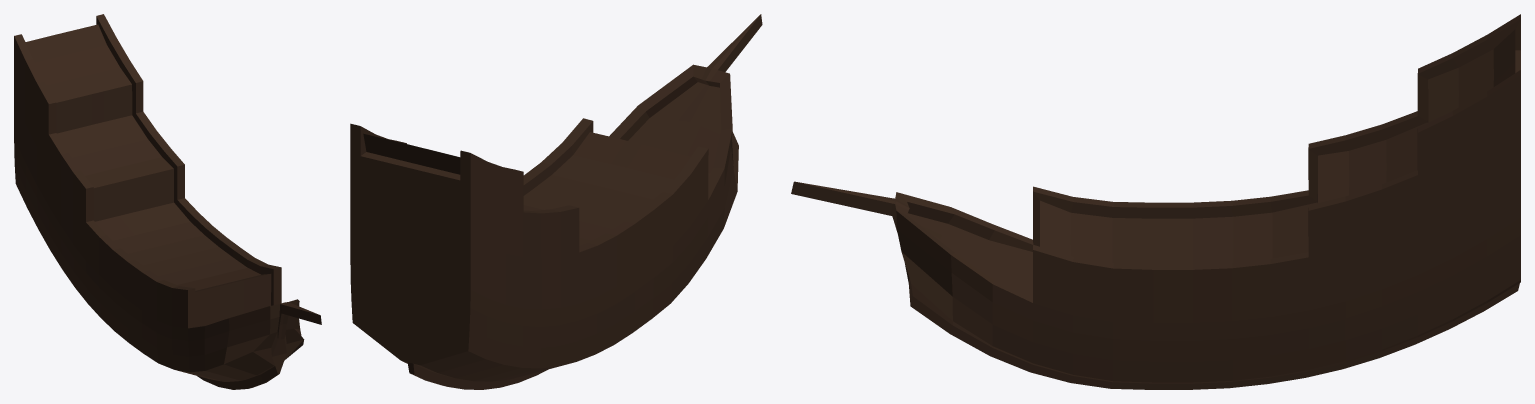
The model's file is WBSM_Ship.fbx.
3 renders of one model, left to right at view 1: azimuth 30°, elevation 25°; view 2: azimuth 150°, elevation 25°; view 3: azimuth 270°, elevation 25°, orthographic. The views are drawn at different scales.
Parts seen in each view (by area): view 1: Cube; view 2: Cube; view 3: Cube.
Part boxes in pixels (<box>): Cube: <box>14,14,321,389</box>; Cube: <box>350,14,762,389</box>; Cube: <box>791,14,1520,389</box>.
Size of the model in its own units: 201 by 477 by 918.
